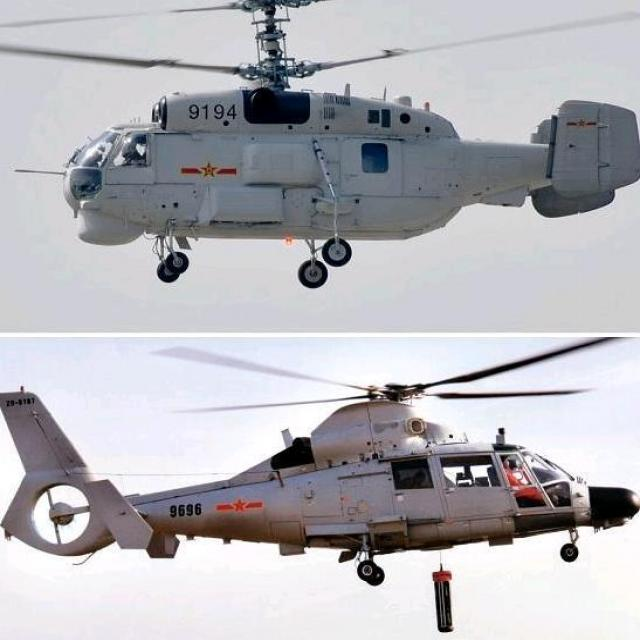MIL_HELO: (2, 0, 640, 293), (3, 343, 640, 590)
